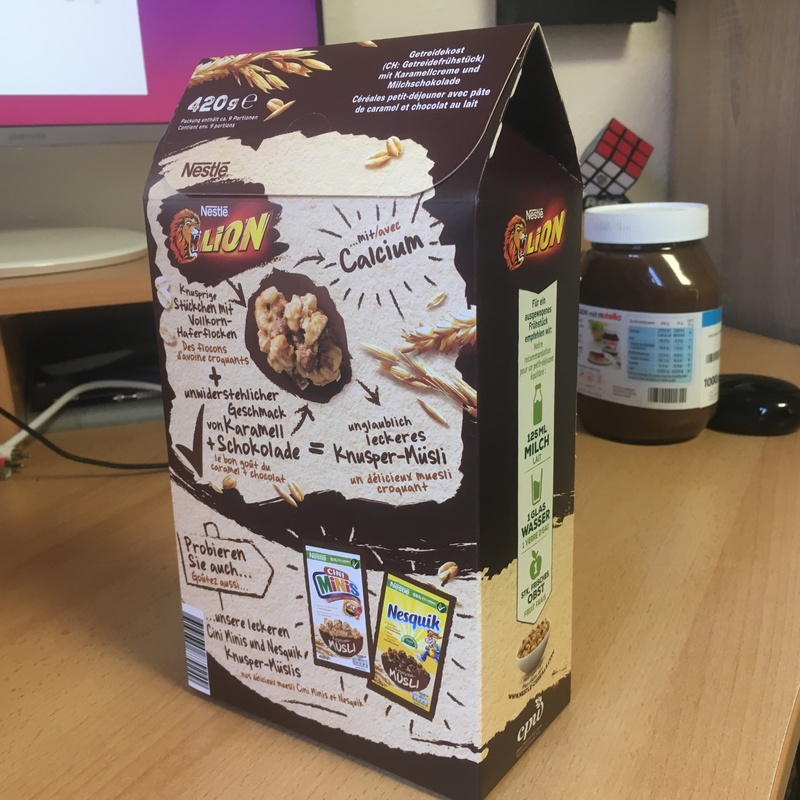cereals: (144, 24, 586, 800)
